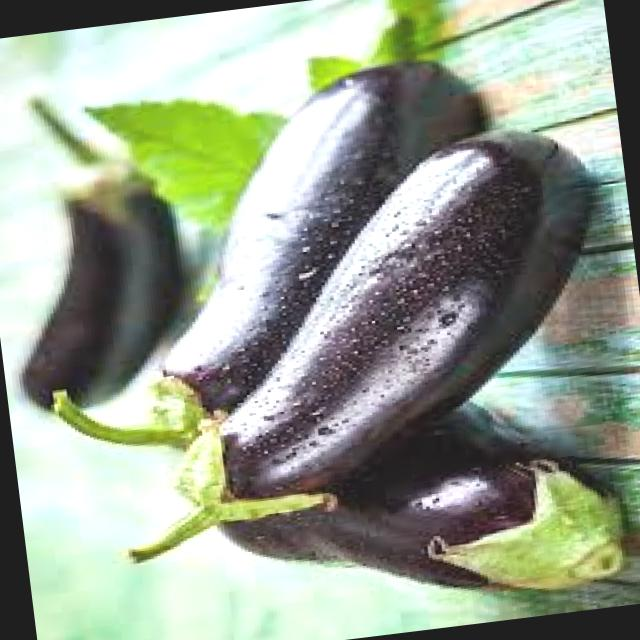organic: (67, 29, 640, 640)
